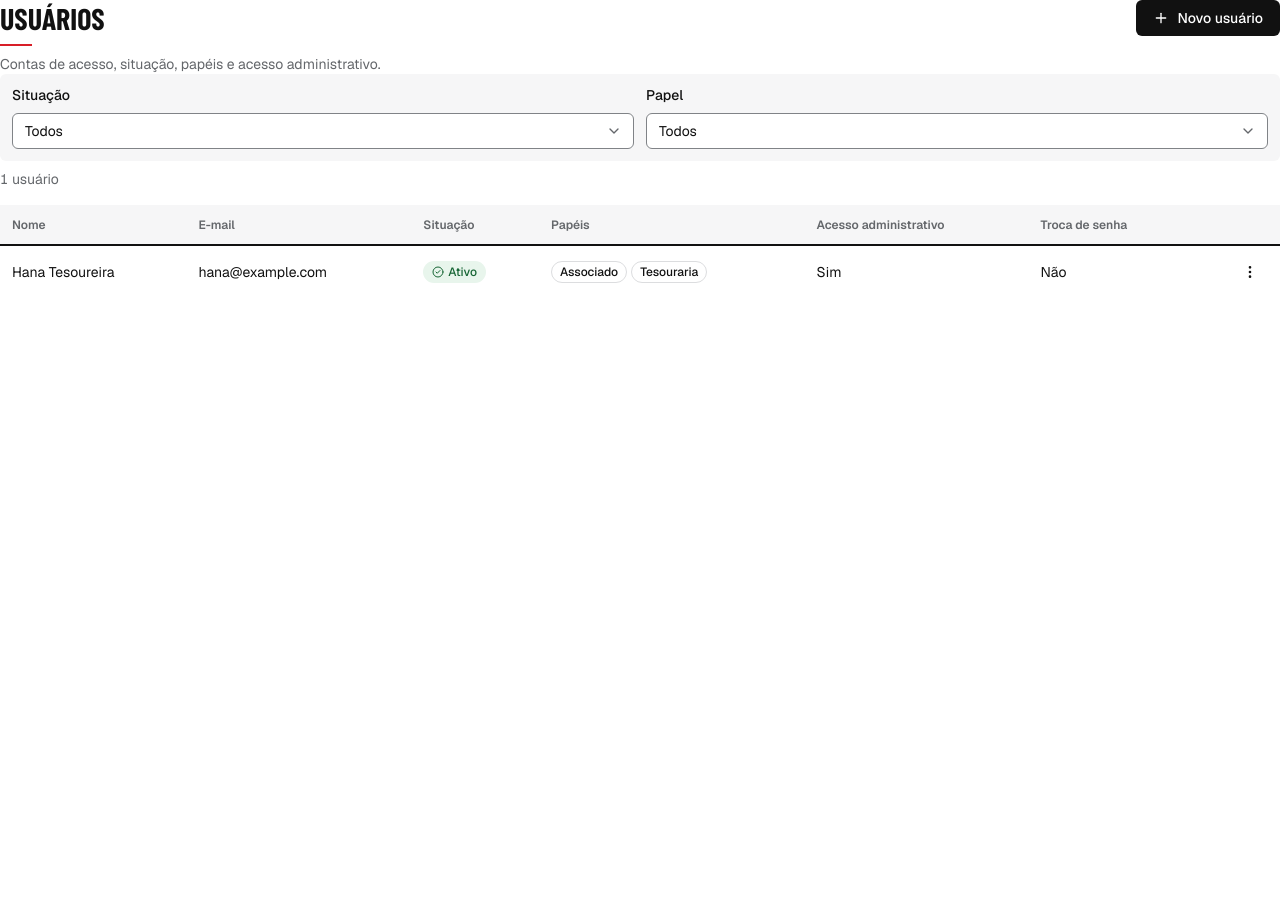
confirmações (DSP-03 AC2, AC3 e AC5) › Retirar acesso administrativo Hana Tesoureira: o erro da API aparece dentro da confirmação, que continua aberta
The width and height of the screenshot is (1280, 900).
Expected: the text "hana@example.com" is shown, [186,245,411,298]
Step 1. Click the button named "Ações de Hana Tesoureira" → (1250, 272), box [1232,254,1268,290]
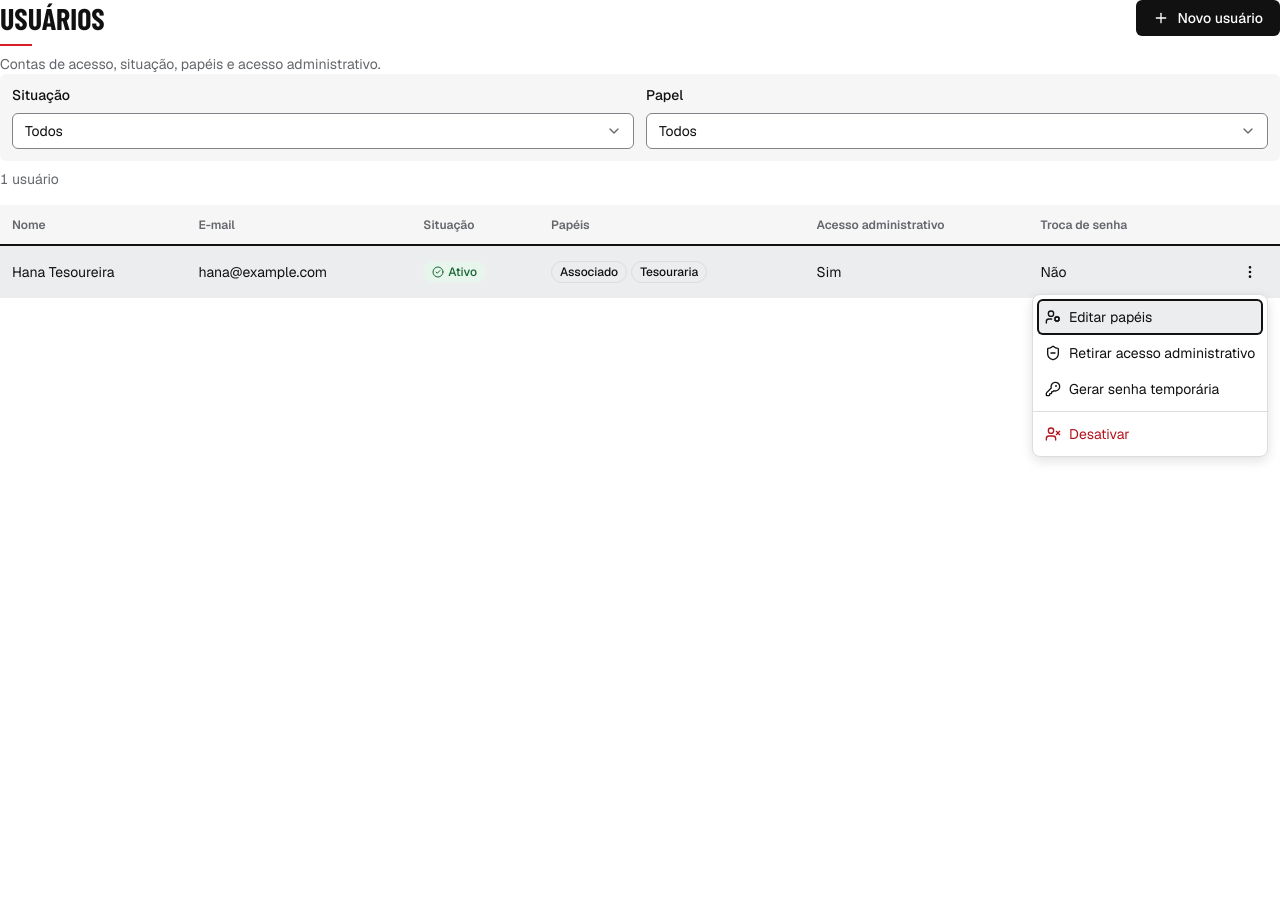
Result: the menu is shown at [1032,294,1268,457]
Step 2. Click the menu item "Retirar acesso administrativo" → (1150, 353), box [1045,344,1255,362]
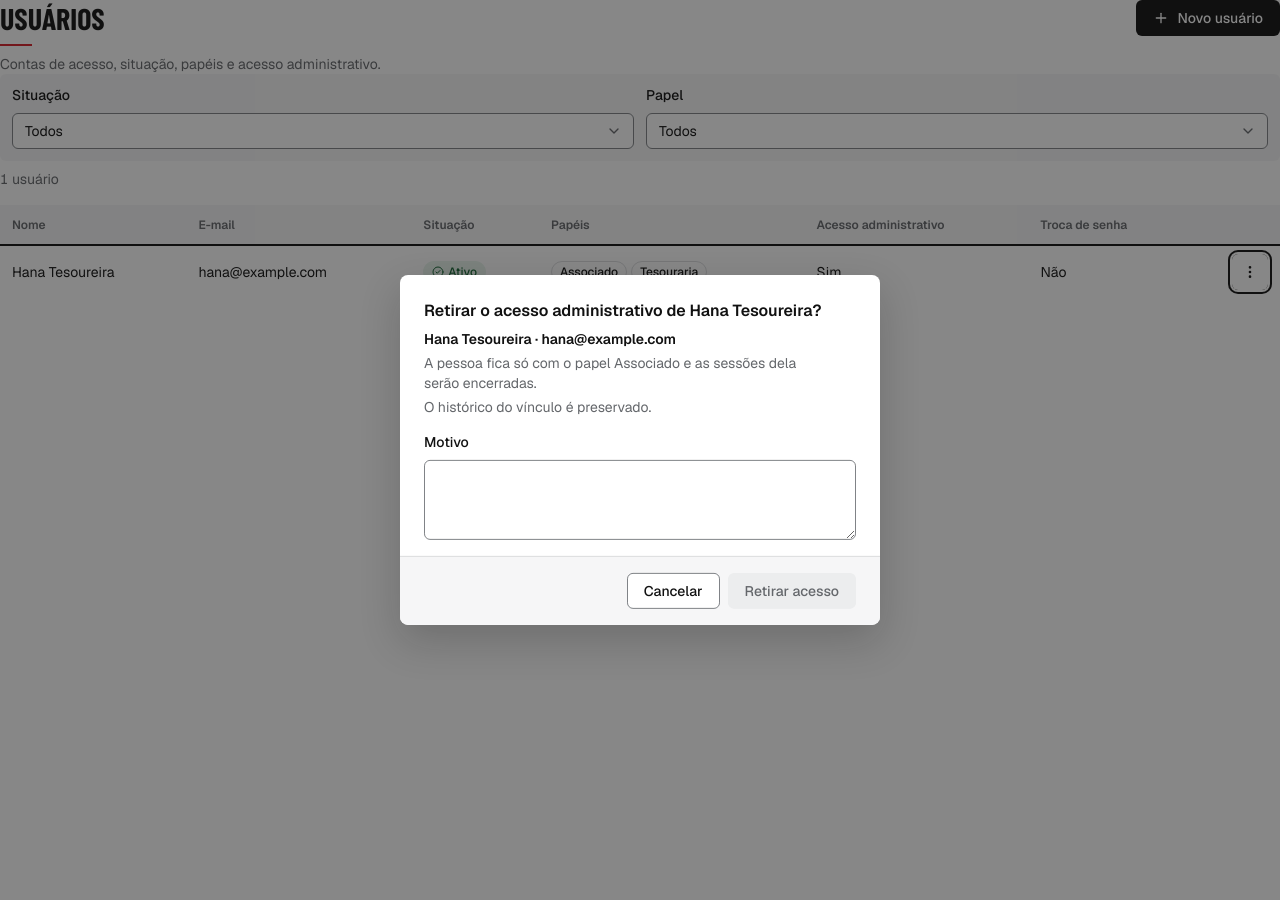
Step 3. Type "Deixou a tesouraria" into the text box labelled "Motivo" → (640, 500), box [424,460,856,540]
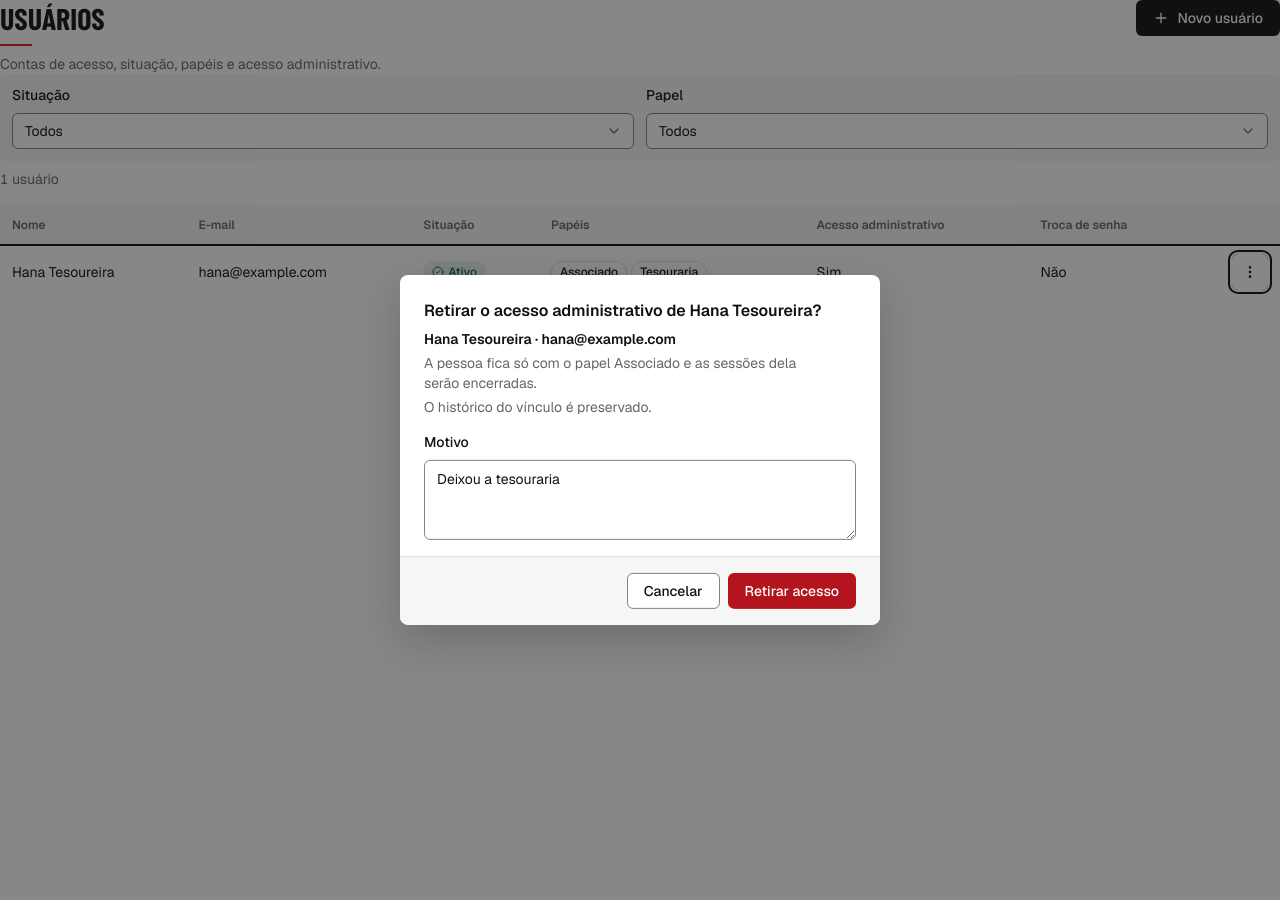
Step 4. Click the button "Retirar acesso" → (792, 591), box [728,573,856,609]
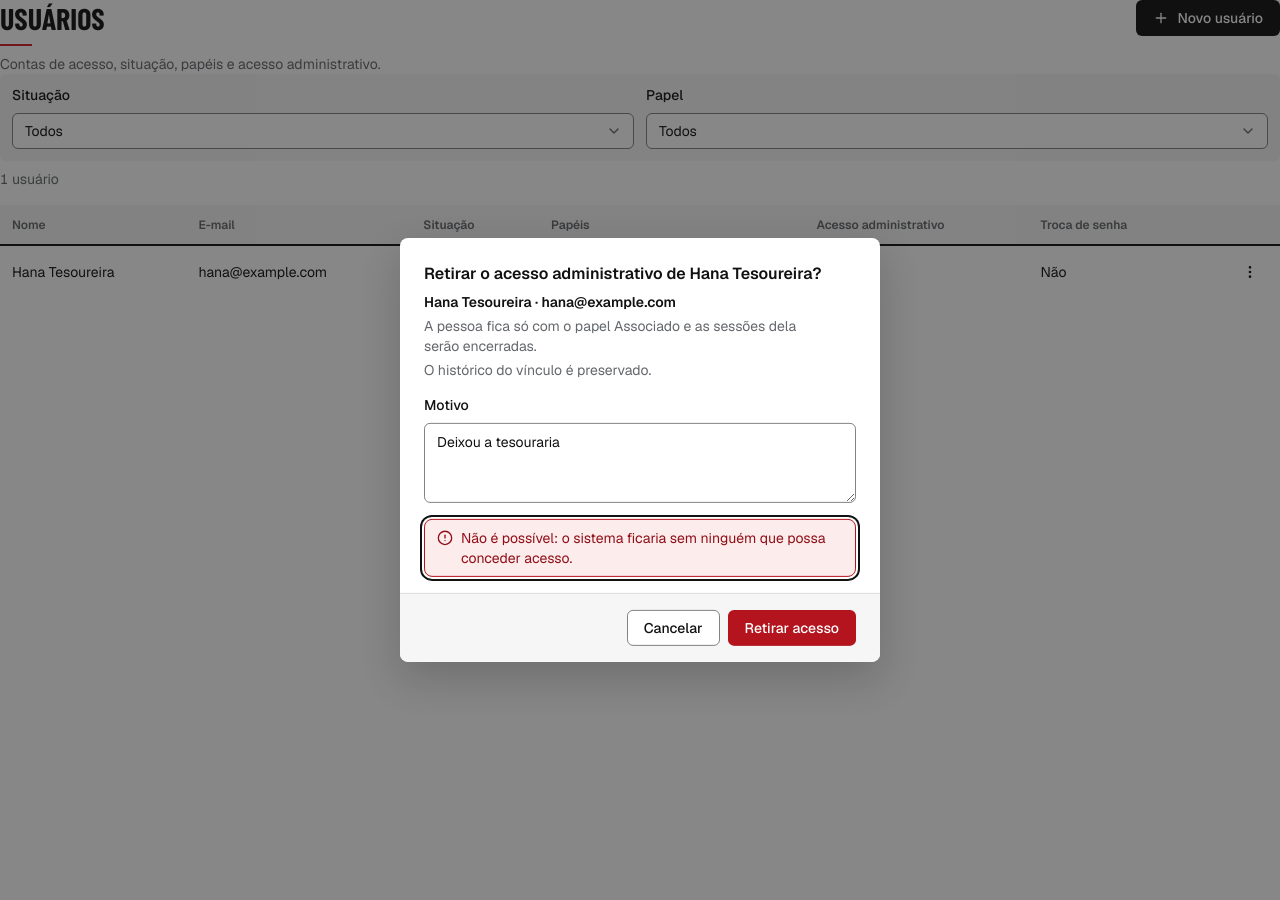
Result: the text "Não é possível: o sistema ficaria sem ninguém que possa conceder acesso." is shown at [461,528,843,568]
